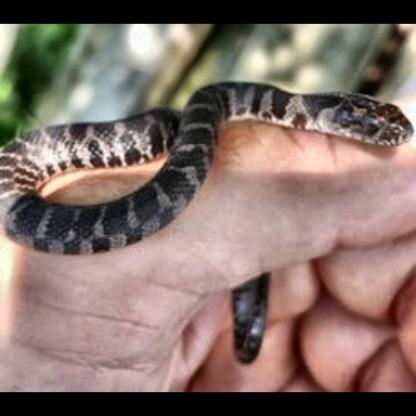Snake: (3, 67, 415, 262)
